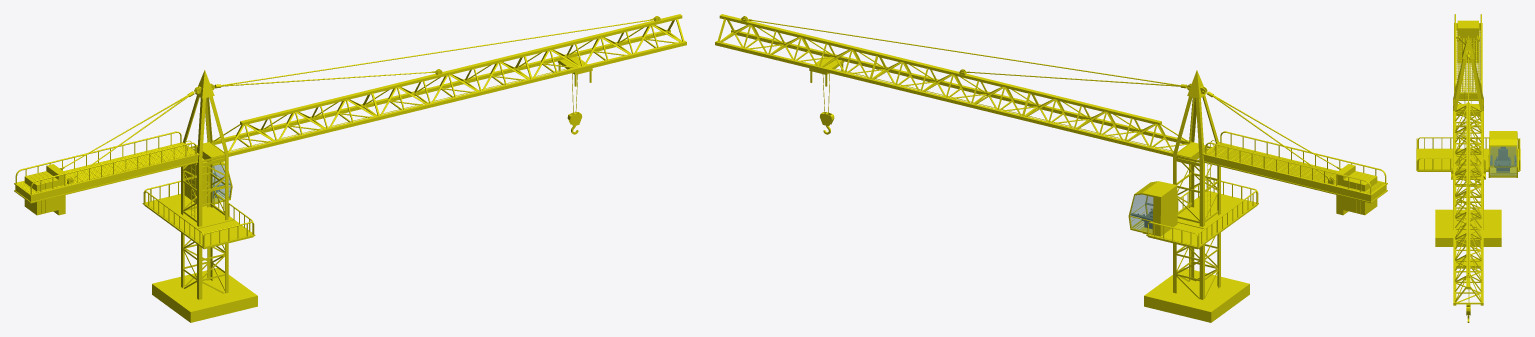
The model's file is tower_crane.fbx.
The picture shows the model from 3 angles, left to right: view 1: azimuth 30°, elevation 25°; view 2: azimuth 150°, elevation 25°; view 3: azimuth 270°, elevation 25°; orthographic projection. The views are drawn at different scales.
Parts seen in each view (by area): view 1: tower_head, concrete_base, tower_frame; view 2: tower_head, concrete_base, tower_frame; view 3: tower_head, concrete_base, tower_frame, hook_mechanism.
Part boxes in pixels (bbox=[...]): tower_head: bbox=[14, 14, 686, 249]; concrete_base: bbox=[152, 268, 257, 322]; tower_frame: bbox=[181, 233, 228, 299]; tower_head: bbox=[715, 14, 1387, 249]; concrete_base: bbox=[1144, 268, 1249, 322]; tower_frame: bbox=[1173, 232, 1220, 299]; tower_head: bbox=[1416, 14, 1520, 305]; concrete_base: bbox=[1435, 209, 1501, 246]; tower_frame: bbox=[1453, 179, 1483, 229]; hook_mechanism: bbox=[1456, 258, 1480, 268].
Bounding box in the file's own units: 4045 × 1355 × 647.
